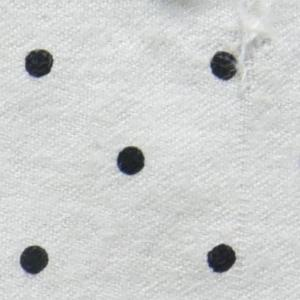Damage: (218, 20, 286, 96)
